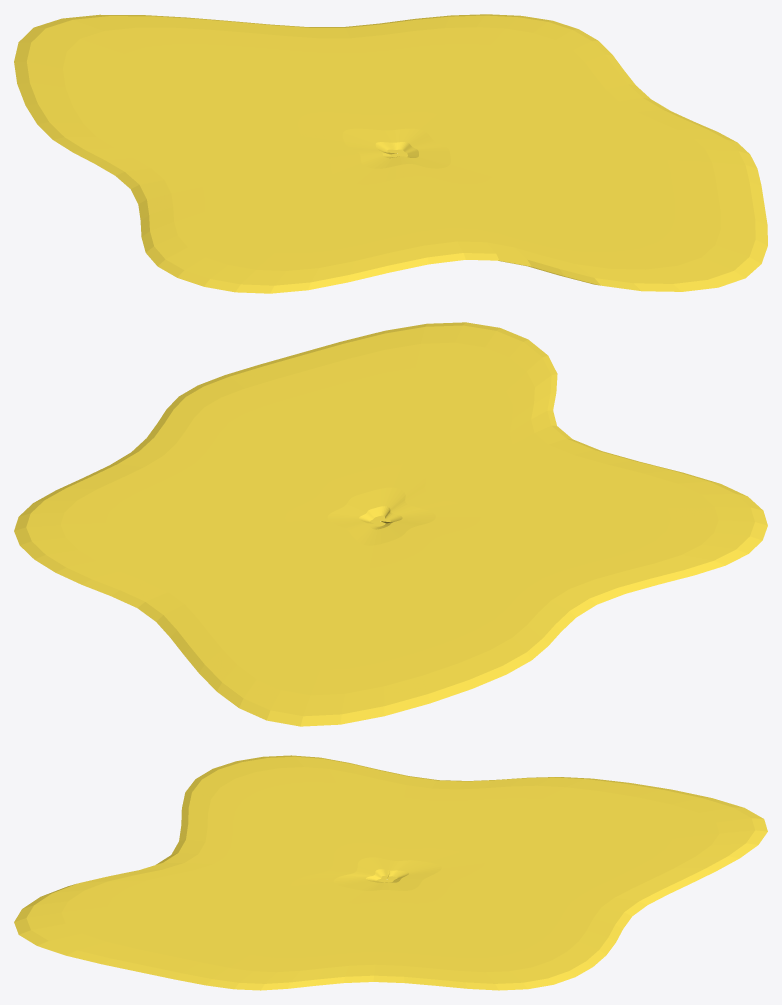
The model's file is butterpuddle.fbx.
The picture shows the model from 3 angles, top to bottom: view 1: azimuth 30°, elevation 25°; view 2: azimuth 150°, elevation 25°; view 3: azimuth 270°, elevation 25°; orthographic projection. The views are drawn at different scales.
Parts seen in each view (by area): view 1: Circle; view 2: Circle; view 3: Circle.
Boxes of the visible parts, bbox=[...] form: Circle: bbox=[14, 14, 767, 293]; Circle: bbox=[14, 322, 767, 726]; Circle: bbox=[14, 755, 767, 990].
Size of the model in its own units: 176 by 3 by 238.
